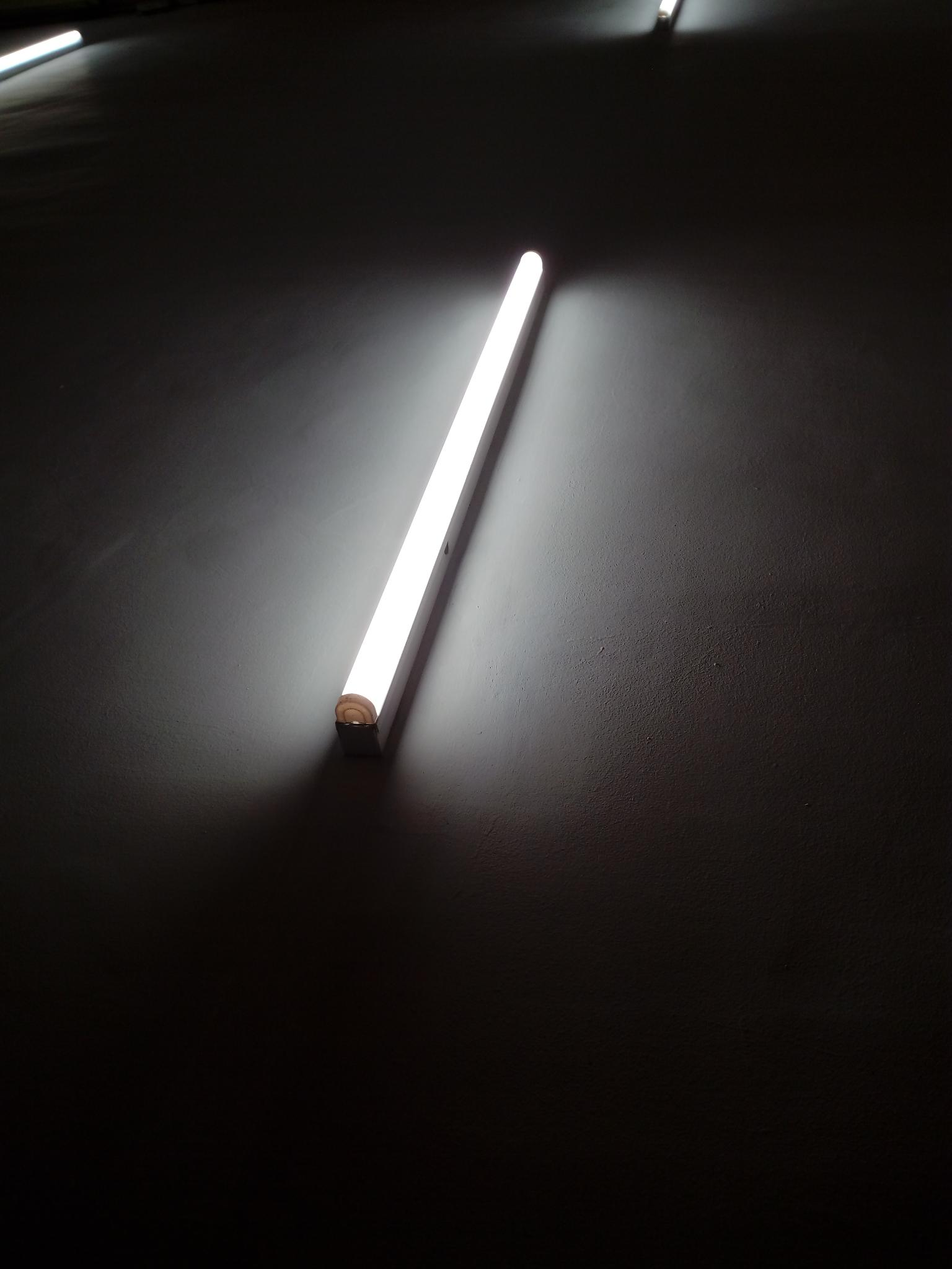light: (332, 248, 544, 755)
